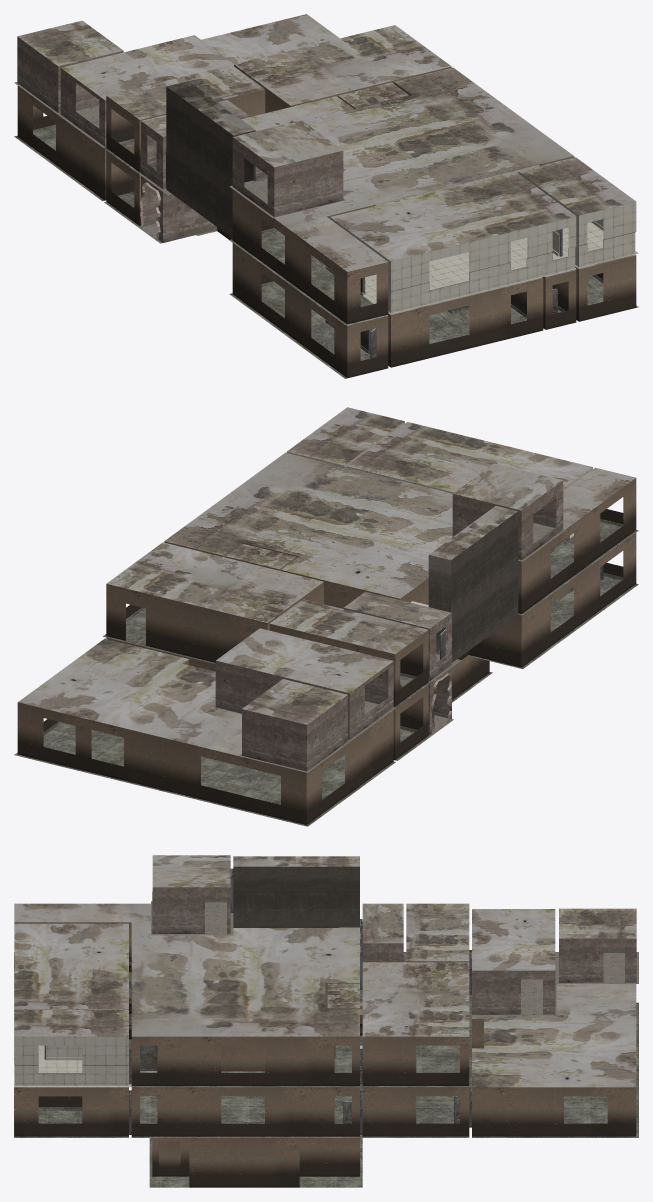
Rendered from A2_InteriorStructure.fbx.
The picture shows the model from 3 angles, top to bottom: view 1: azimuth 30°, elevation 25°; view 2: azimuth 150°, elevation 25°; view 3: azimuth 270°, elevation 25°; orthographic projection. The views are drawn at different scales.
Parts seen in each view (by area): view 1: A2_InteriorStructure, A2_LobbyStructure; view 2: A2_InteriorStructure, A2_LobbyStructure; view 3: A2_InteriorStructure, A2_LobbyStructure.
Part boxes in pixels (x1,y1,x2,y2): A2_InteriorStructure: (14, 14, 638, 378); A2_LobbyStructure: (14, 20, 345, 243); A2_InteriorStructure: (14, 407, 638, 826); A2_LobbyStructure: (213, 463, 565, 772); A2_InteriorStructure: (14, 903, 638, 1187); A2_LobbyStructure: (151, 855, 638, 1015).
Size of the model in its own units: 18.3 by 12.56 by 35.73.
